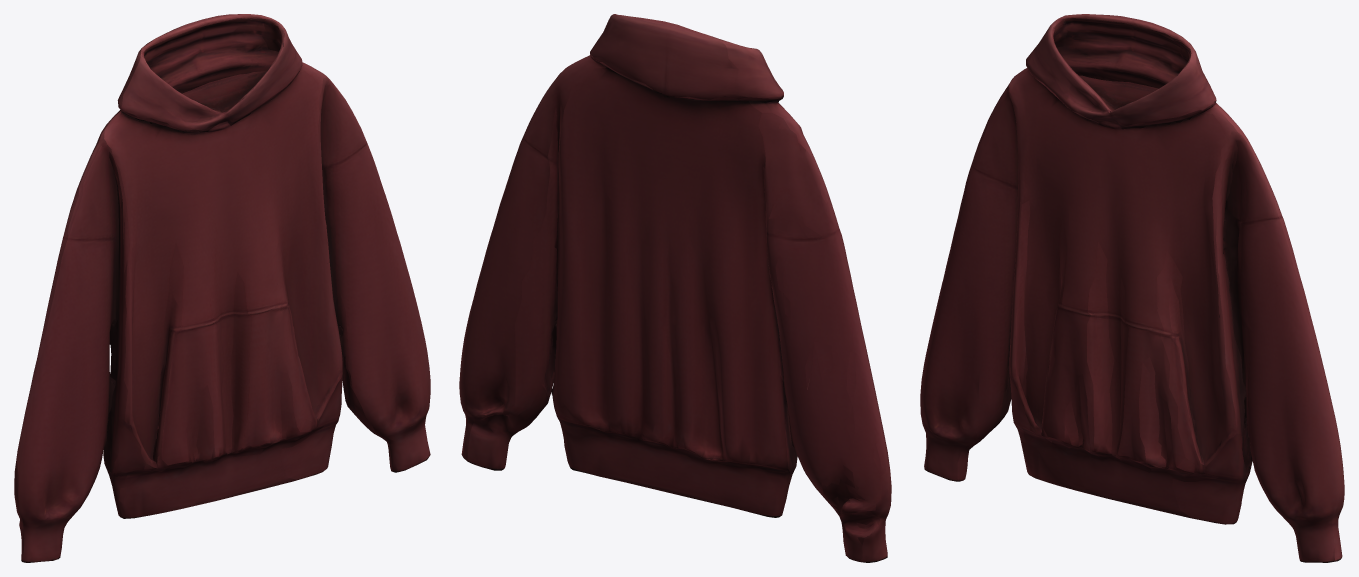
The picture shows the model from 3 angles, left to right: view 1: azimuth 30°, elevation 25°; view 2: azimuth 150°, elevation 25°; view 3: azimuth 330°, elevation 25°; orthographic projection. The views are drawn at different scales.
Parts seen in each view (by area): view 1: geometry_0; view 2: geometry_0; view 3: geometry_0.
Boxes of the visible parts, x1,y1,x2,y2 form: geometry_0: (14,14,430,562); geometry_0: (459,14,891,562); geometry_0: (920,14,1344,562).
Bounding box in the file's own units: 0.7346 × 0.82 × 0.113.
Materials: 1 (1 with a texture image).
